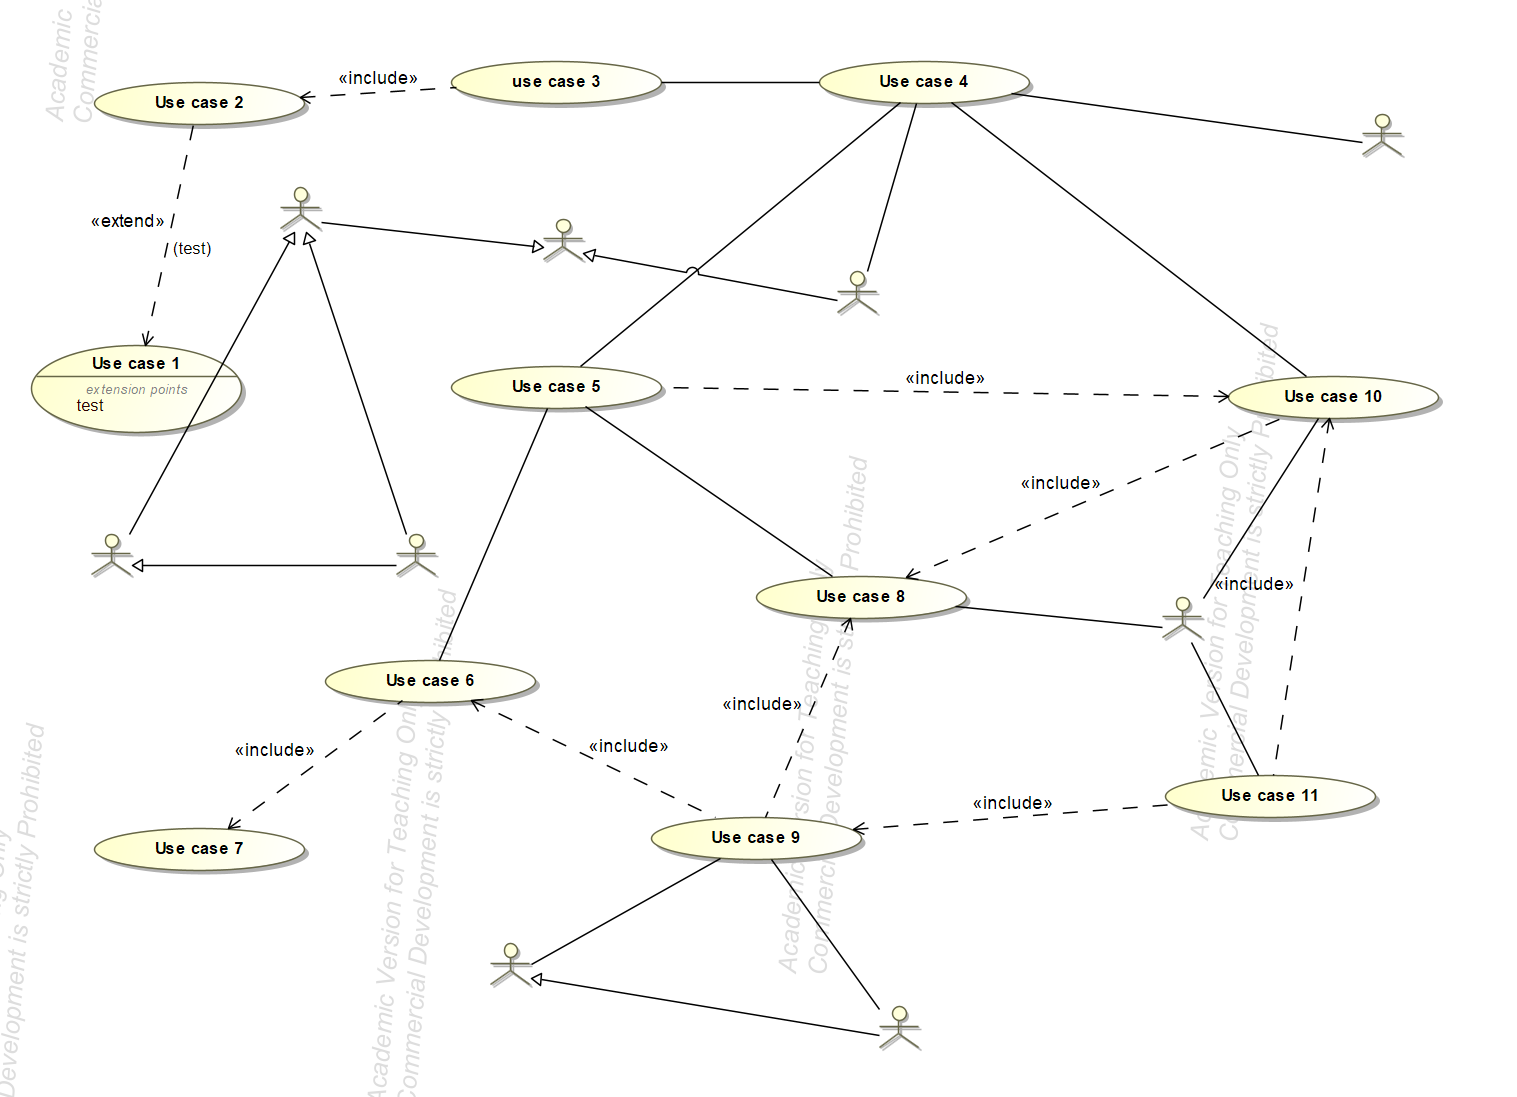actor: (485, 937, 534, 989), (84, 531, 133, 580), (879, 1003, 923, 1051), (541, 217, 583, 267), (1363, 112, 1405, 161), (392, 531, 436, 579), (1162, 594, 1204, 642), (280, 189, 323, 232), (839, 272, 877, 317)
association: (954, 103, 1307, 375), (582, 99, 897, 361), (907, 417, 1289, 581), (594, 409, 829, 575), (466, 701, 708, 817), (442, 409, 546, 660), (223, 699, 403, 833), (1268, 416, 1336, 772), (526, 859, 721, 969), (1207, 414, 1323, 597), (674, 375, 1228, 410), (1021, 91, 1362, 144), (766, 617, 855, 817), (771, 861, 877, 1007), (138, 124, 196, 346), (855, 797, 1166, 833), (1190, 642, 1261, 772), (868, 99, 920, 273), (959, 601, 1161, 637), (662, 70, 819, 94), (300, 84, 457, 104)
generalization: (130, 232, 299, 530), (302, 229, 412, 533), (528, 972, 883, 1036), (579, 246, 836, 306), (324, 219, 546, 257), (132, 556, 402, 575)
text: (75, 382, 211, 419), (1278, 379, 1387, 409), (1212, 781, 1325, 809), (79, 201, 166, 238), (804, 582, 921, 609), (873, 65, 979, 94), (697, 822, 806, 850), (501, 70, 607, 95), (148, 835, 250, 863), (968, 786, 1058, 817), (151, 90, 251, 117), (231, 731, 320, 760), (579, 732, 680, 758), (506, 375, 611, 399), (84, 350, 185, 375), (378, 668, 478, 693), (720, 690, 803, 719), (896, 364, 989, 389), (333, 64, 422, 90), (1016, 468, 1102, 491), (1212, 577, 1299, 596), (170, 239, 214, 260)
use_case: (27, 341, 245, 440), (751, 570, 971, 625), (1228, 374, 1448, 428), (322, 656, 543, 708), (450, 362, 667, 414), (90, 78, 309, 128), (93, 822, 310, 873), (817, 57, 1034, 107), (448, 58, 664, 107), (648, 813, 865, 863), (1166, 772, 1377, 819)
